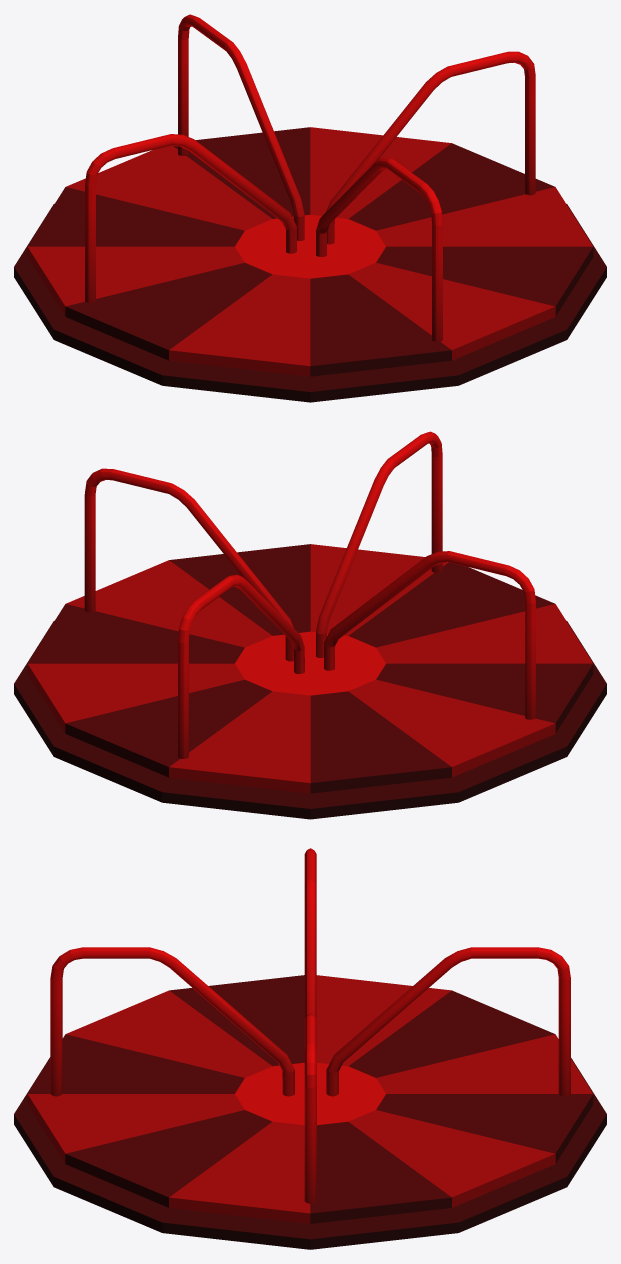
Rendered from MerryGoRound.glb.
3 views of the same model, one above another, from view 1: azimuth 30°, elevation 25°; view 2: azimuth 150°, elevation 25°; view 3: azimuth 270°, elevation 25° (orthographic).
Visible parts, largest first — view 1: MerryGoRound; view 2: MerryGoRound; view 3: MerryGoRound.
Part boxes in pixels (x1=…): MerryGoRound: x1=14, y1=14, x2=606, y2=402; MerryGoRound: x1=14, y1=431, x2=606, y2=819; MerryGoRound: x1=14, y1=848, x2=606, y2=1249.
Bounding box in the file's own units: 13.54 × 4.47 × 13.54.
